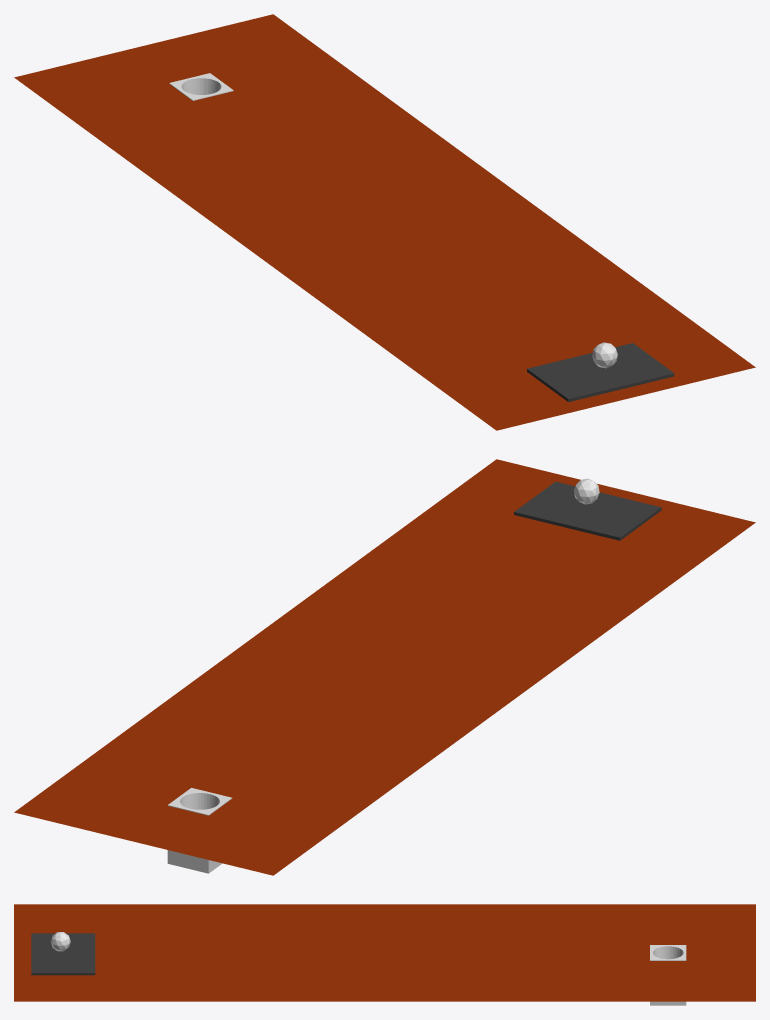
File: boilerplate_level_10.glb
3 views of the same model, one above another, from view 1: azimuth 30°, elevation 25°; view 2: azimuth 150°, elevation 25°; view 3: azimuth 270°, elevation 25° (orthographic). The views are drawn at different scales.
Parts seen in each view (by area): view 1: Plane, Start, Cup; view 2: Plane, Start, Cup; view 3: Plane, Start, Cup, Ball.
Part boxes in pixels (x1,y1,x2,y2): Plane: (14,14,755,430); Start: (527,343,674,401); Cup: (169,73,233,100); Plane: (14,459,755,875); Start: (514,481,661,540); Cup: (167,788,232,873); Plane: (14,904,755,1001); Start: (31,933,95,975); Cup: (650,945,686,1005); Ball: (50,932,70,951).
Size of the model in its own units: 19.3 by 6.34 by 62.2.
